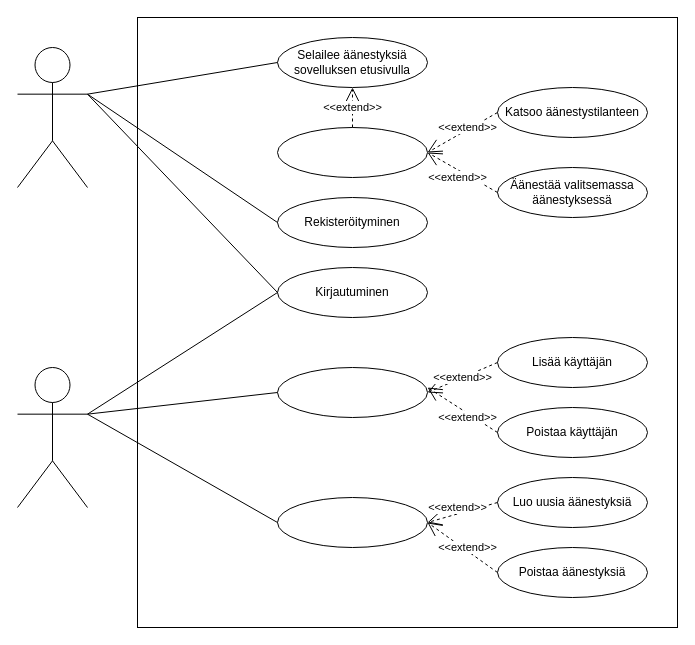
The diagram is 695 pixels wide and 645 high, and some of its shapes have lost their labels. The shapes that lost their labels are listed below. From the top down, each one's centre as x and y in pixels, then its label:
(52,117): User
(352,152): Valitsee äänestyksen
(352,392): Selaa käyttäjiä
(52,437): Admin
(352,522): Selaa äänestyksiä
